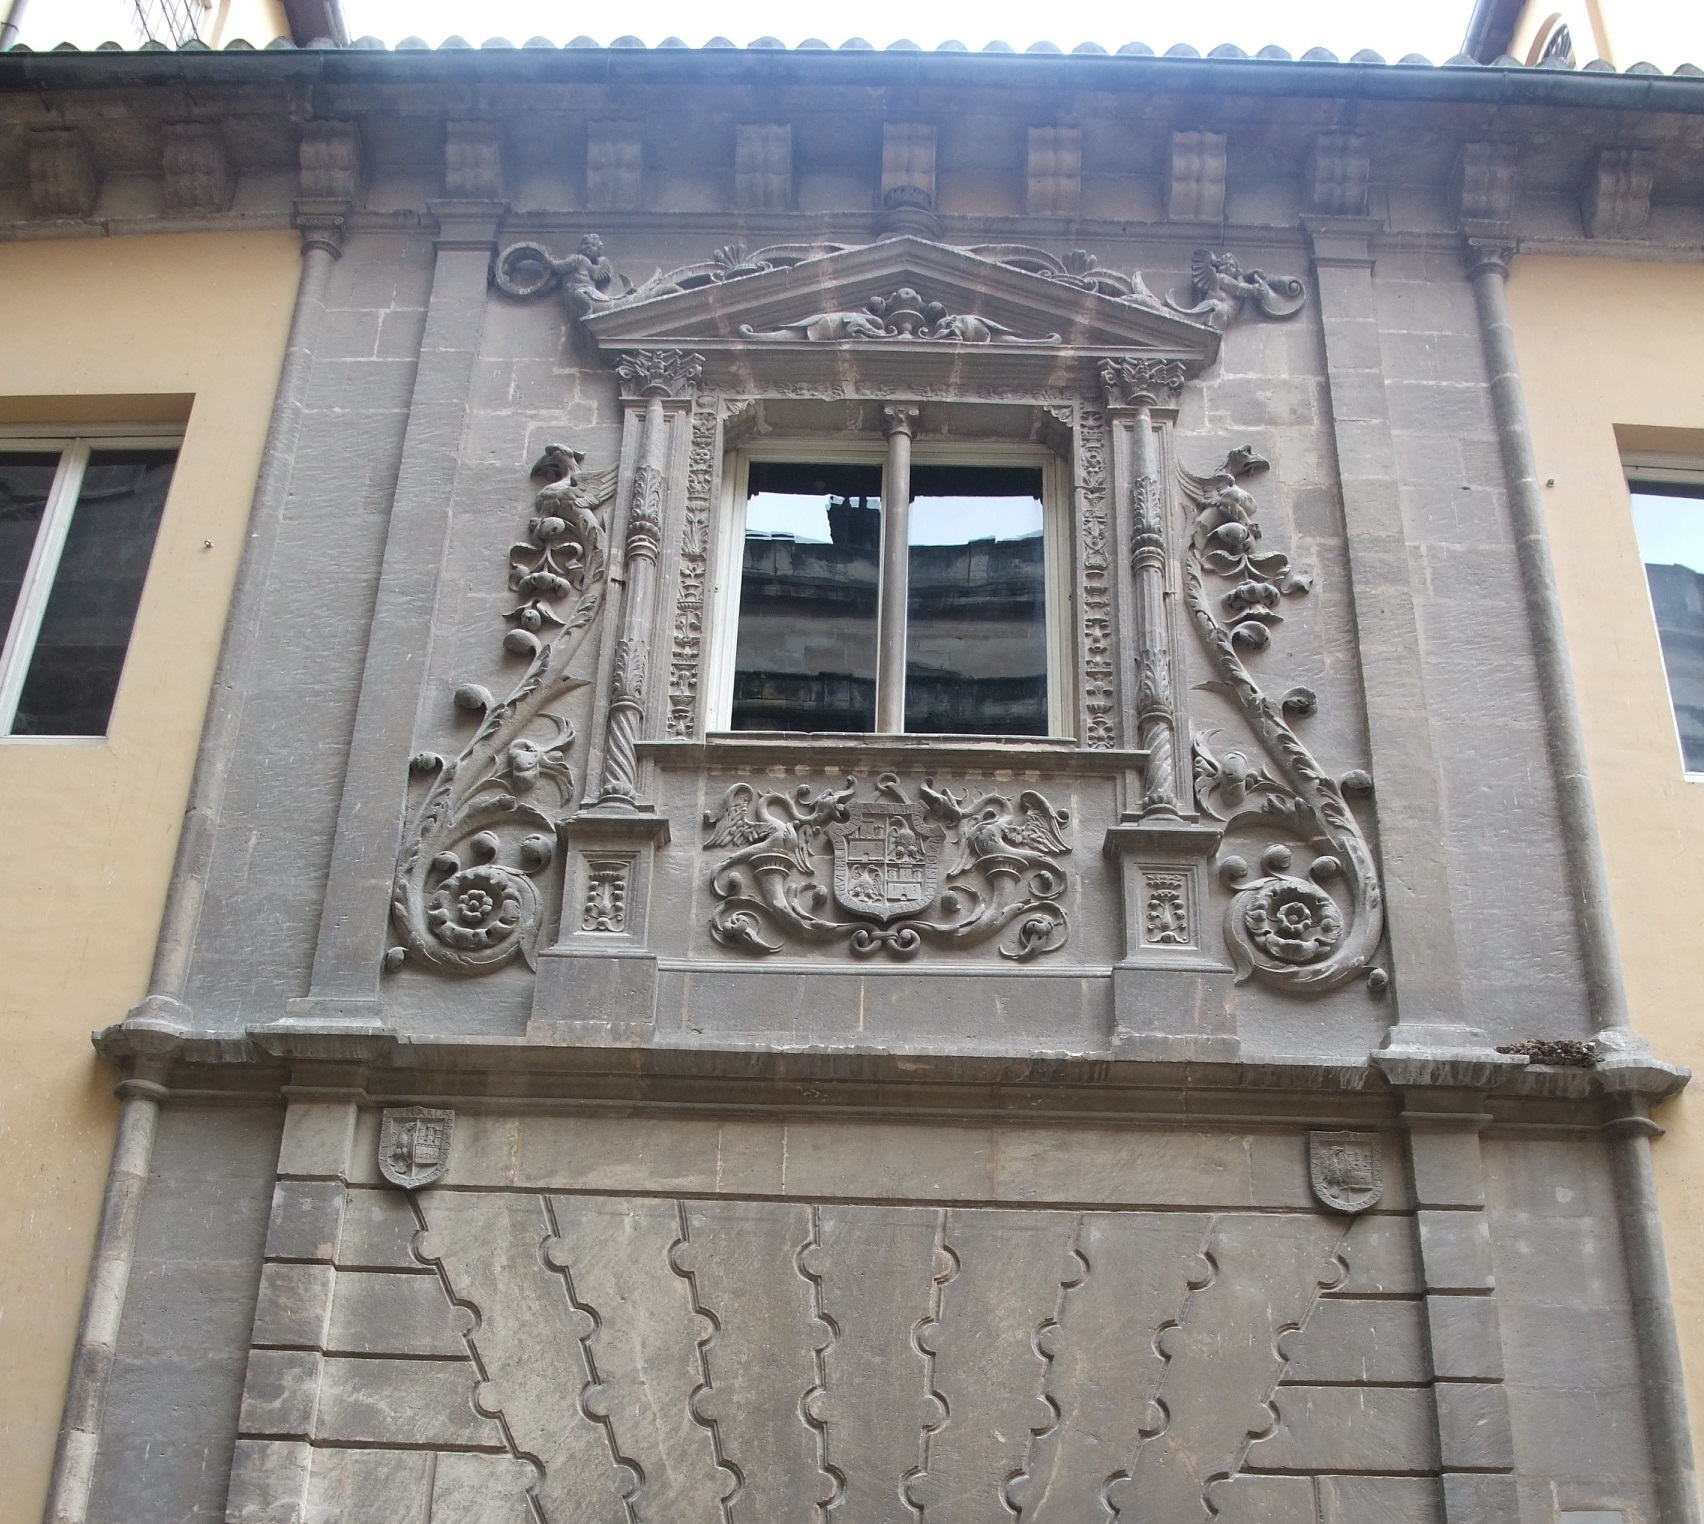fronton: (567, 231, 1232, 381)
vano-adintelado: (620, 338, 1193, 766)
